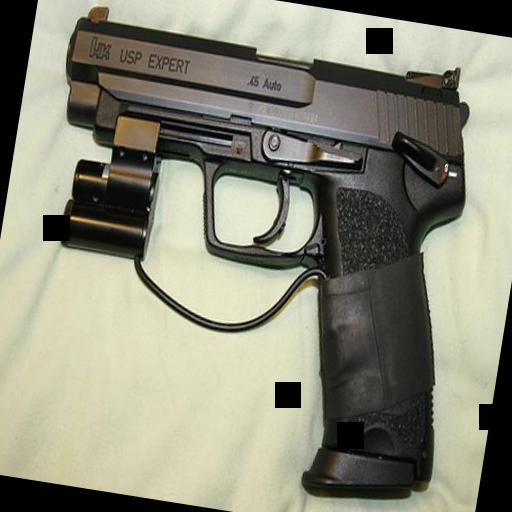Handgun: (2, 0, 495, 509)
